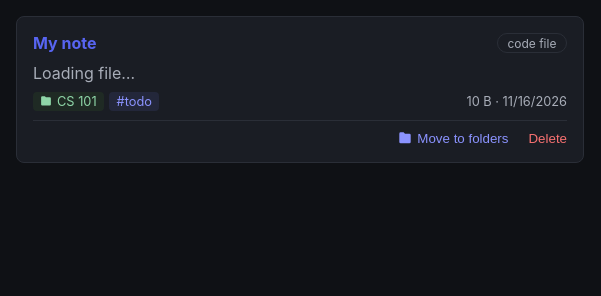
Test: moving between folders › an uploaded file can't be taken out of its last folder
Click the button "Move to folders" at (453, 138), box [398,131,508,146]
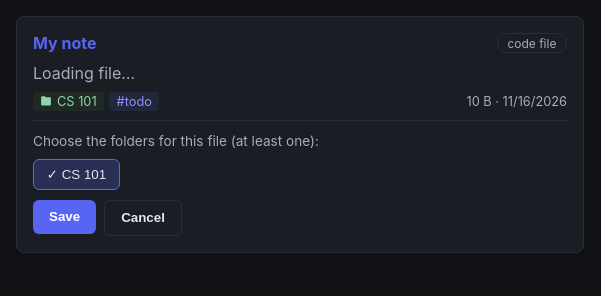
Click the button "✓ CS 101" at (76, 174), box [33,159,120,190]
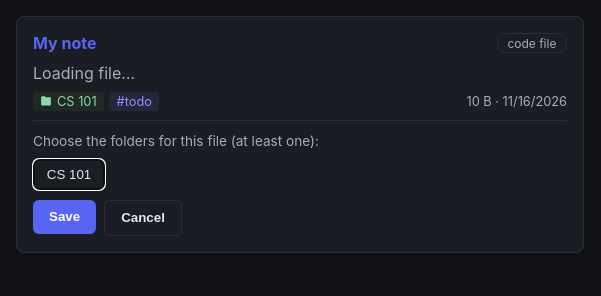
Click the button "Save" at (65, 217), box [33,200,96,234]
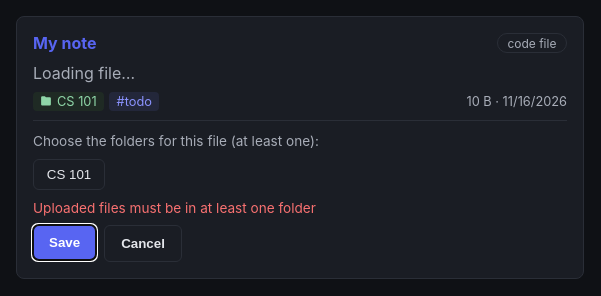
Expected: the text "Uploaded files must be in at least one folder" is shown, [33,200,316,216]
